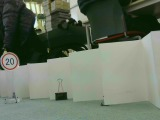speed_20: (1, 51, 20, 72)
